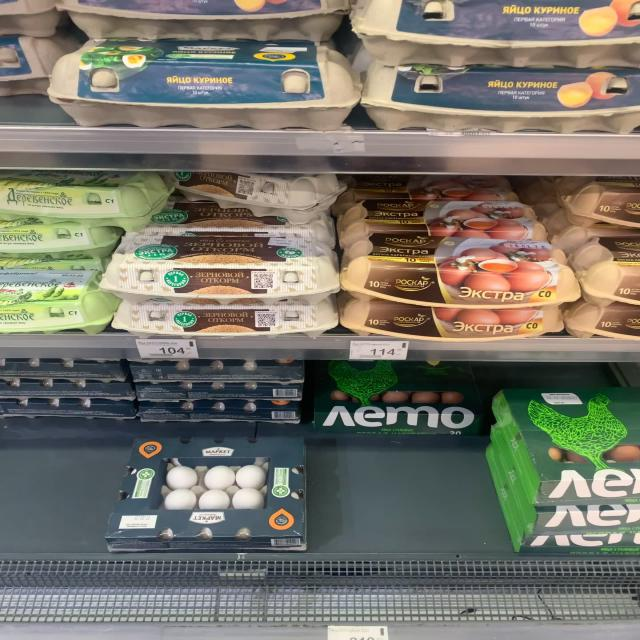egg box: (46, 37, 364, 130), (345, 42, 636, 136), (110, 437, 306, 545), (101, 226, 343, 306), (341, 238, 583, 304), (0, 168, 172, 228), (336, 195, 549, 241), (338, 300, 567, 339), (107, 300, 337, 337)
